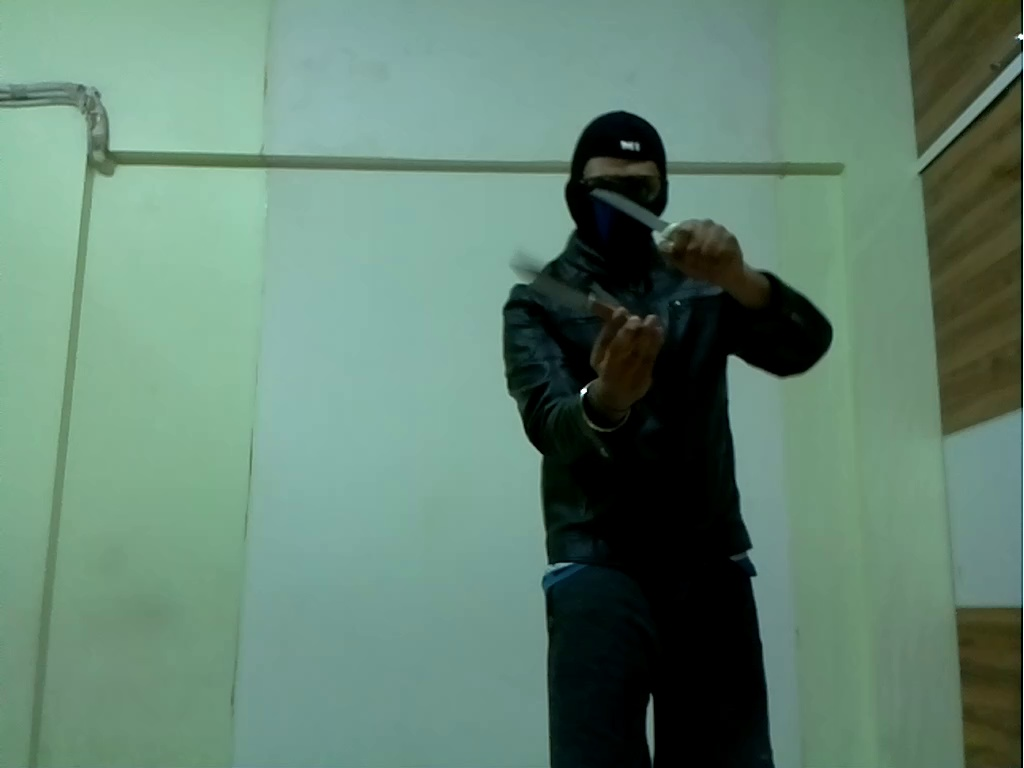knife: (590, 187, 689, 238)
